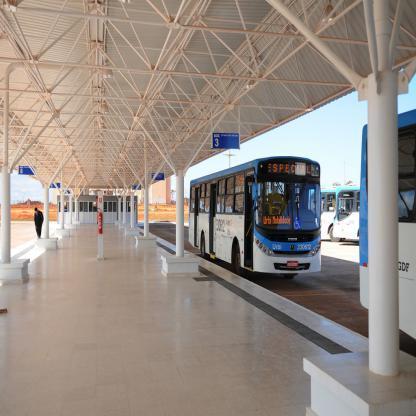bus: (188, 153, 320, 274), (359, 108, 416, 340), (334, 184, 361, 240), (307, 188, 334, 241)
